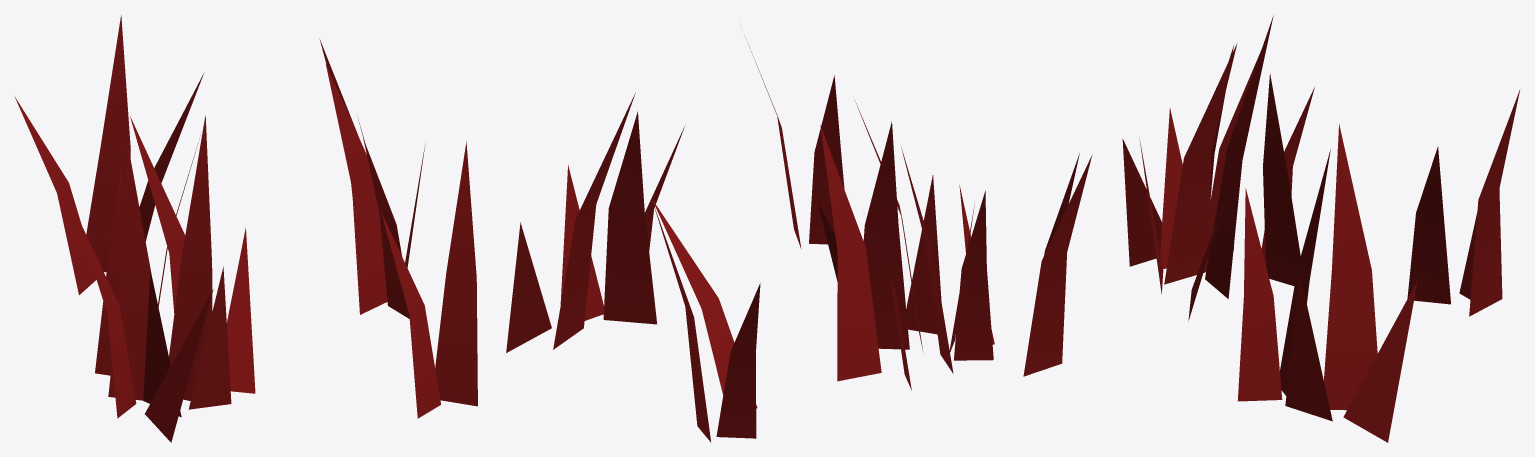
The model's file is Model_Horde_Plants3.fbx.
3 views of the same model, side by side, from view 1: azimuth 30°, elevation 25°; view 2: azimuth 150°, elevation 25°; view 3: azimuth 270°, elevation 25° (orthographic).
Visible parts, largest first — view 1: cao3; view 2: cao3; view 3: cao3.
Boxes of the visible parts, x1,y1,x2,y2 form: cao3: (14,15,477,442); cao3: (506,44,994,442); cao3: (1023,15,1520,442).
Size of the model in its own units: 100 by 64.28 by 108.
